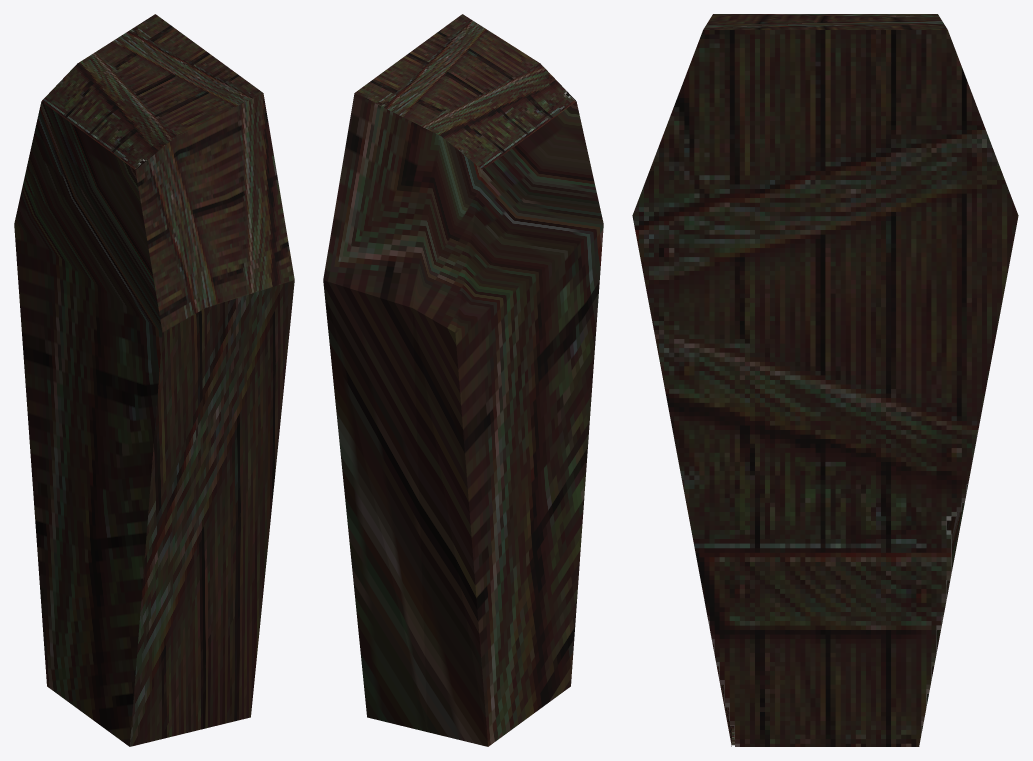
The model's file is CatCoffin.obj.
The picture shows the model from 3 angles, left to right: view 1: azimuth 30°, elevation 25°; view 2: azimuth 150°, elevation 25°; view 3: azimuth 270°, elevation 25°; orthographic projection. The views are drawn at different scales.
Parts seen in each view (by area): view 1: Cube; view 2: Cube; view 3: Cube.
Part boxes in pixels (bbox=[...]): Cube: bbox=[14, 14, 294, 746]; Cube: bbox=[323, 14, 603, 746]; Cube: bbox=[632, 14, 1018, 746].
Bounding box in the file's own units: 0.5 × 2.5 × 1.22.
1 material, 1 textured.
